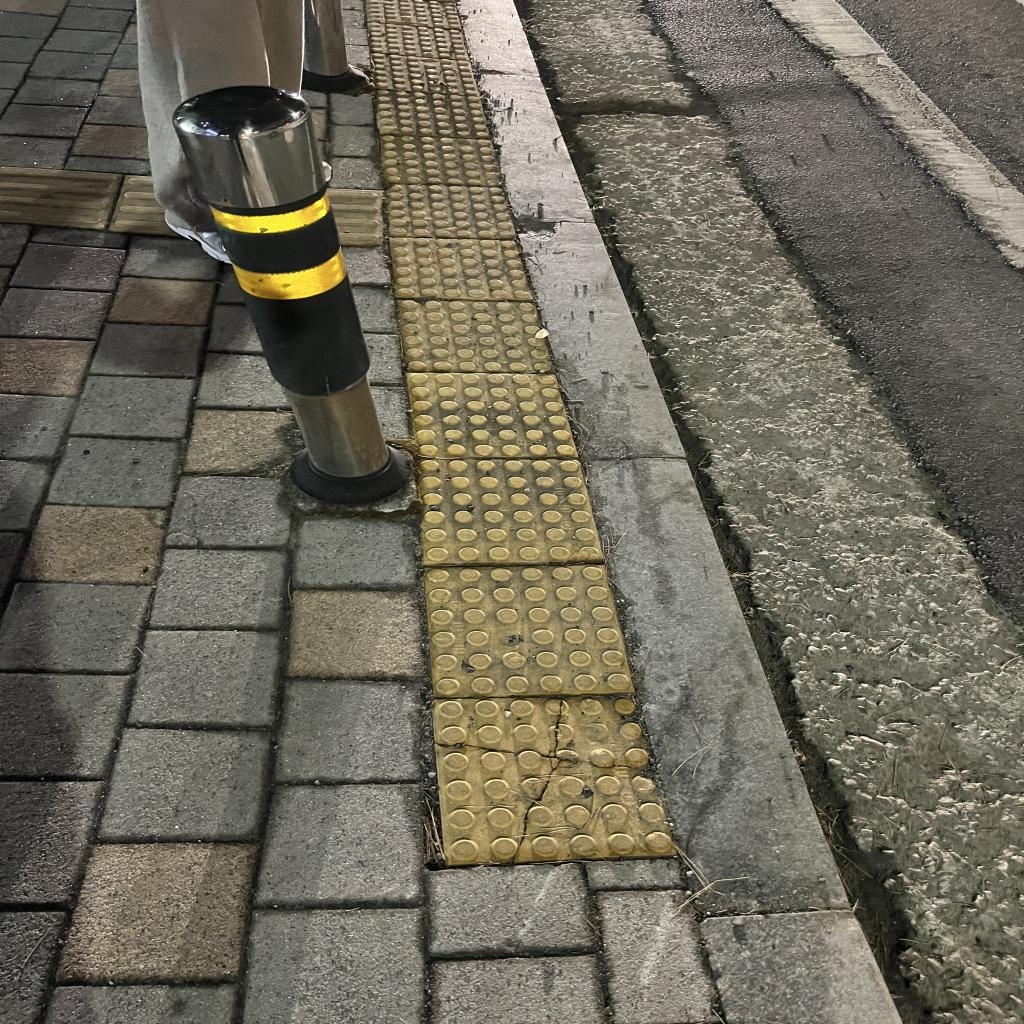Stop block broken: (434, 693, 676, 862)
Stop block normal: (424, 565, 631, 696), (417, 457, 605, 562), (407, 373, 576, 456), (395, 300, 555, 373)
